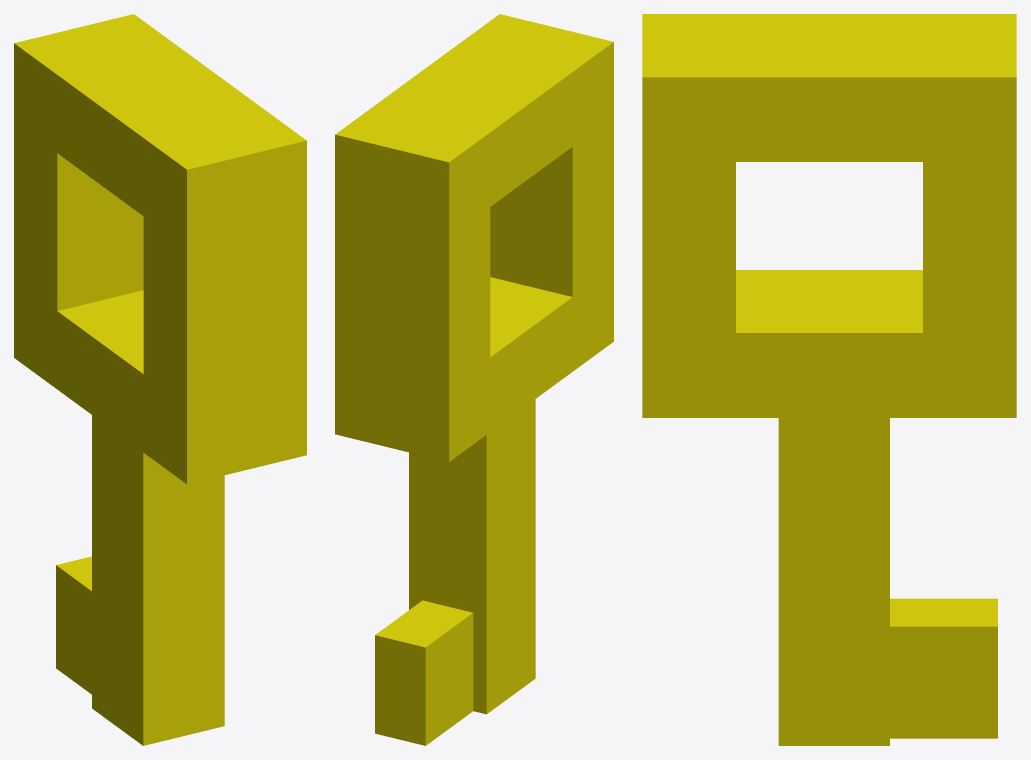
File: key.fbx
3 views of the same model, side by side, from view 1: azimuth 30°, elevation 25°; view 2: azimuth 150°, elevation 25°; view 3: azimuth 270°, elevation 25° (orthographic). The views are drawn at different scales.
Parts seen in each view (by area): view 1: Key; view 2: Key; view 3: Key.
Boxes of the visible parts, <box> form: Key: <box>14,14,306,745</box>; Key: <box>335,14,613,745</box>; Key: <box>642,14,1016,745</box>.
Size of the model in its own units: 0.16 by 0.8 by 0.4.
